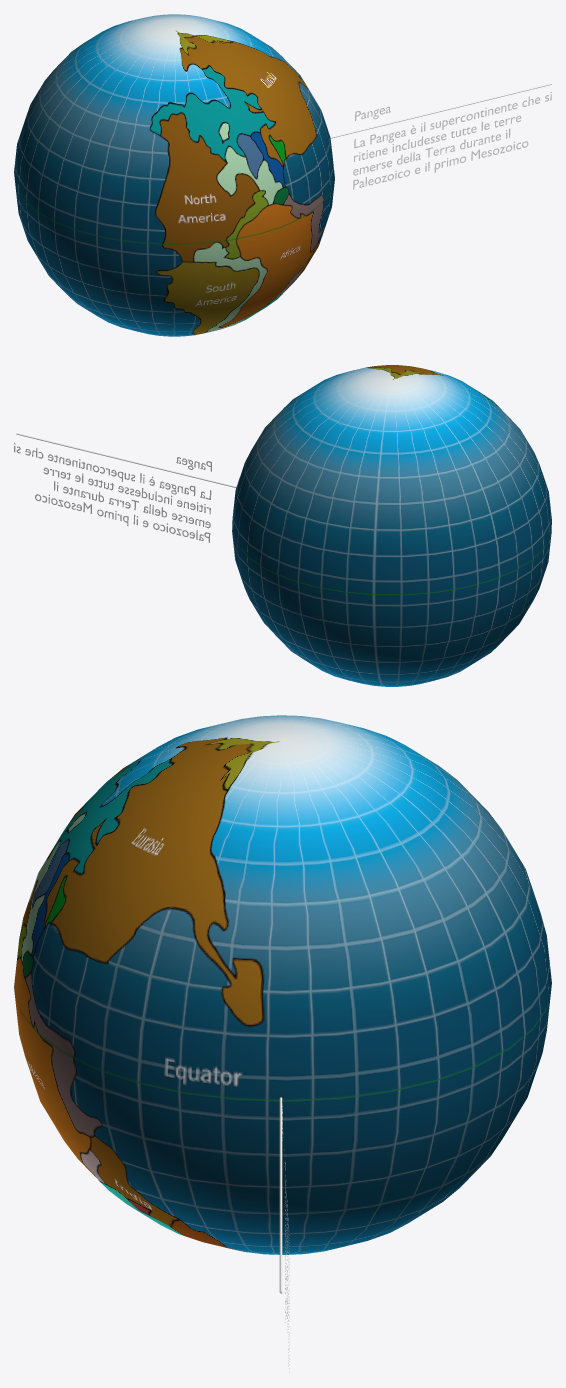
The model's file is Pangea.glb.
The picture shows the model from 3 angles, top to bottom: view 1: azimuth 30°, elevation 25°; view 2: azimuth 150°, elevation 25°; view 3: azimuth 270°, elevation 25°; orthographic projection. The views are drawn at different scales.
Parts seen in each view (by area): view 1: Sphere, Text, riga; view 2: Sphere, Text, riga; view 3: Sphere, riga.
Boxes of the visible parts, x1,y1,x2,y2 form: Sphere: [14, 14, 334, 336]; Text: [353, 91, 551, 189]; riga: [330, 83, 551, 138]; Sphere: [232, 365, 551, 686]; Text: [14, 443, 211, 542]; riga: [16, 433, 236, 487]; Sphere: [14, 715, 551, 1254]; riga: [279, 1097, 282, 1293].
Bounding box in the file's own units: 7.73 × 4.16 × 4.16.
Materials: 2 (1 with a texture image).
